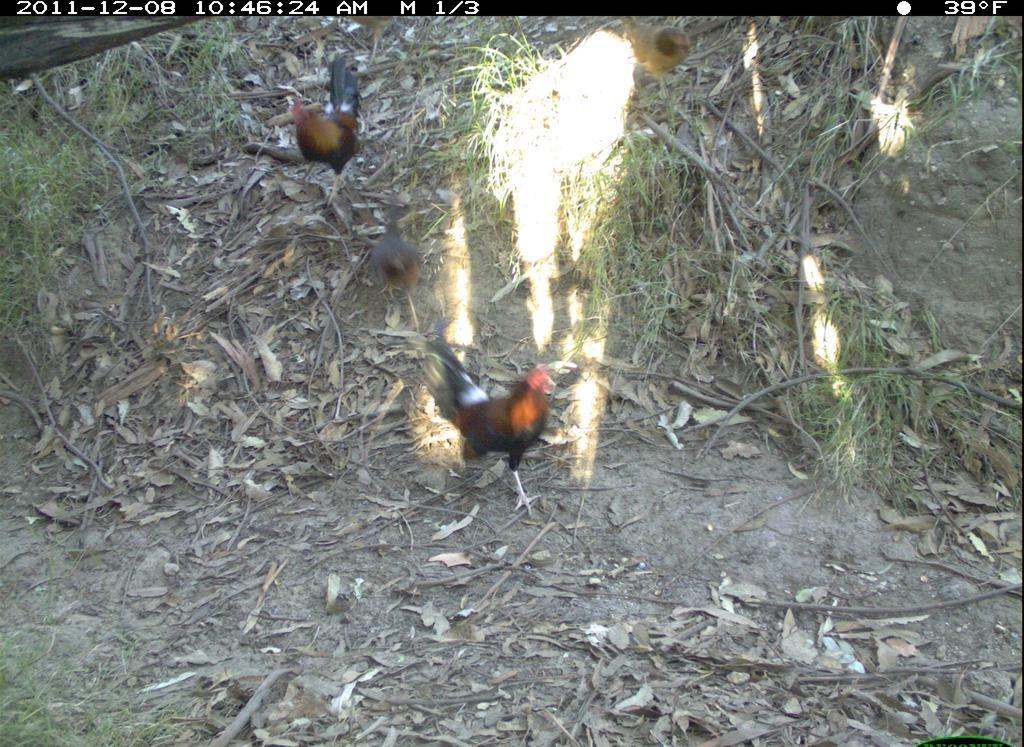bird: (423, 331, 575, 521), (274, 37, 402, 217)
